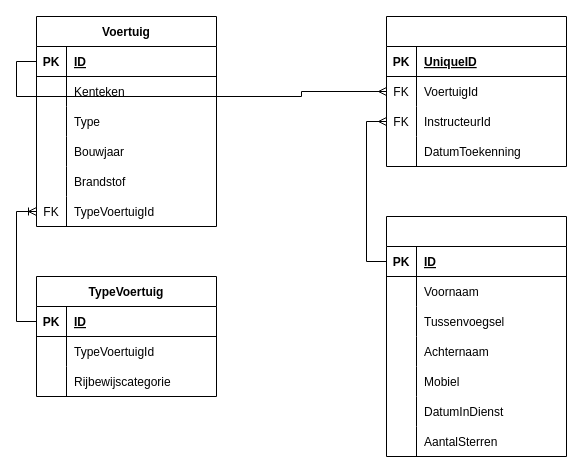
The diagram is 583 pixels wide and 473 high, and some of its shapes have lost their labels. Each missing label, with the box of its shape:
Instructeur: (386, 216, 566, 456)
VoertuigInstructeur: (386, 16, 566, 166)
